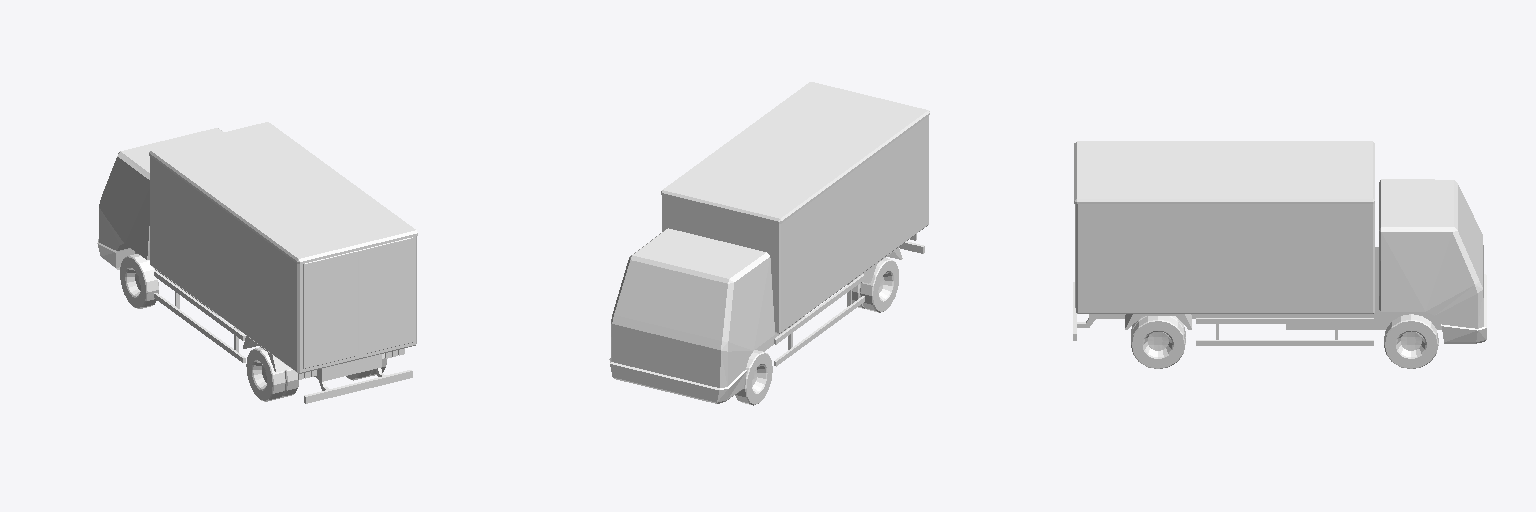
File: Truck.obj
The picture shows the model from 3 angles: view 1: azimuth 30°, elevation 25°; view 2: azimuth 150°, elevation 25°; view 3: azimuth 270°, elevation 25°; orthographic projection.
Parts seen in each view (by area): view 1: Truck; view 2: Truck; view 3: Truck.
Part boxes in pixels (x1,y1,x2,y2): Truck: (97, 122, 417, 403); Truck: (609, 82, 929, 405); Truck: (1073, 141, 1486, 368).
Bounding box in the file's own units: 179 × 244 × 533.